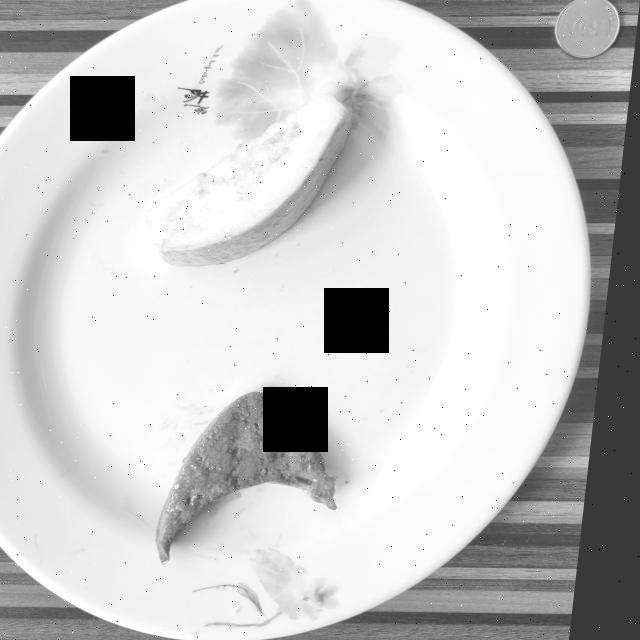coin: (555, 0, 621, 58)
guava -sliced-: (151, 94, 354, 266)
pig liver: (168, 392, 348, 564)
